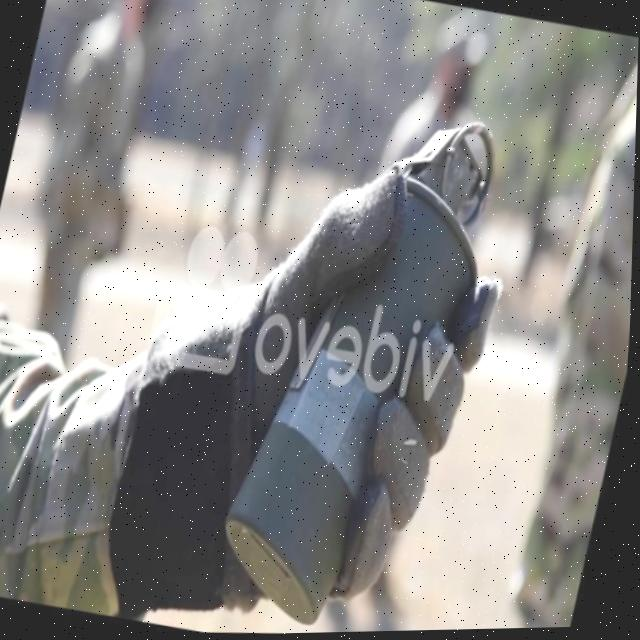grenade: (202, 80, 534, 636)
